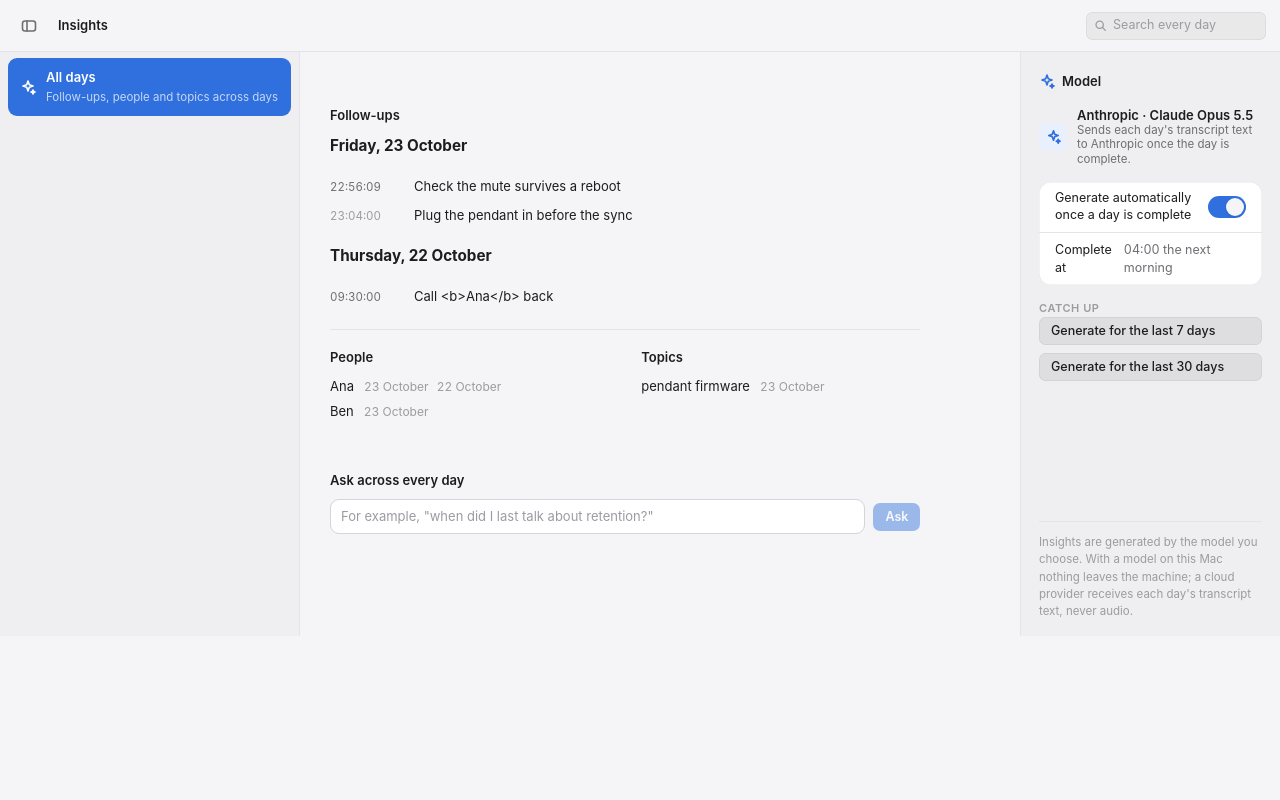
Test: nothing to generate: no Confirm
Click the button "Generate for the last 7 days".
click(1150, 331)  # box left=1039, top=317, right=1262, bottom=345
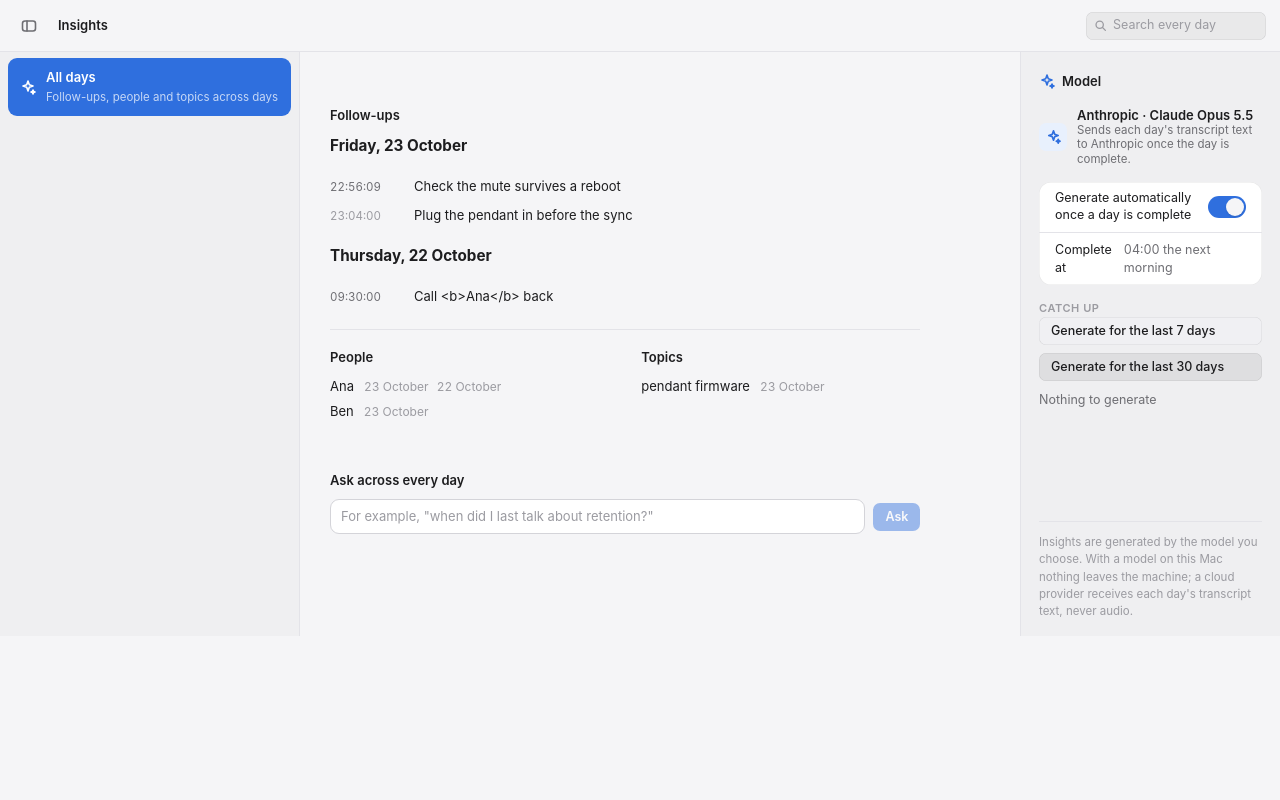
Now the text "Nothing to generate" is shown, box left=1039, top=391, right=1157, bottom=409
